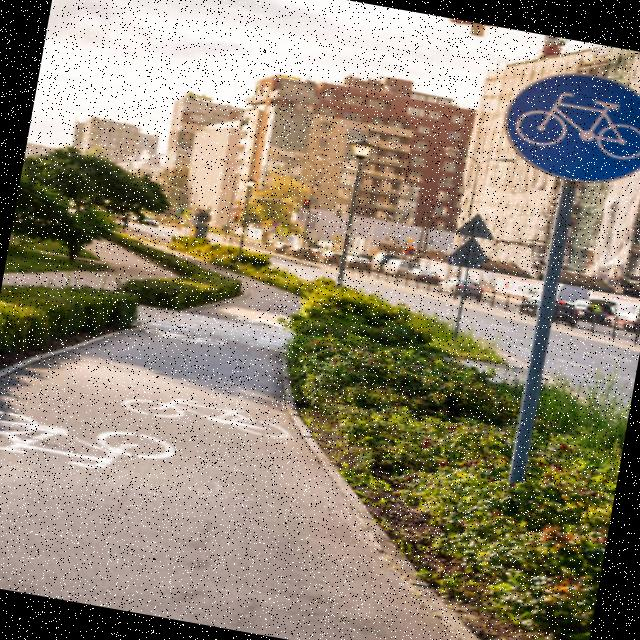bicycle: (489, 53, 640, 206)
